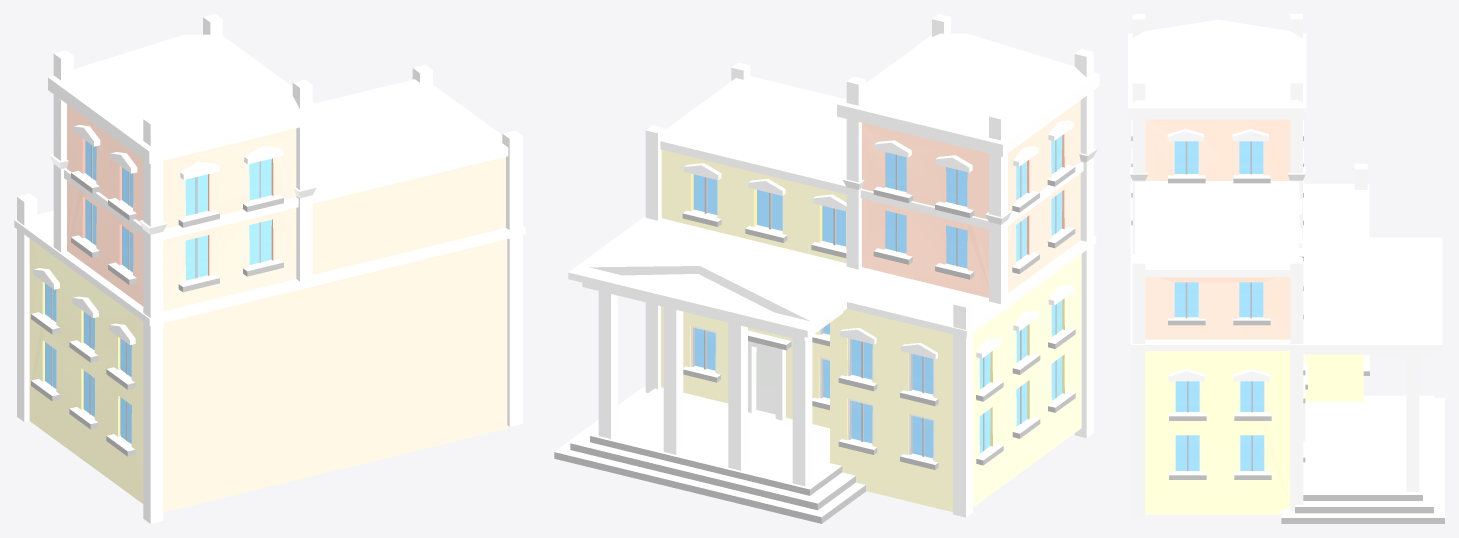
File: art.002.glb
3 renders of one model, left to right at view 1: azimuth 30°, elevation 25°; view 2: azimuth 150°, elevation 25°; view 3: azimuth 270°, elevation 25°, orthographic. The views are drawn at different scales.
Visible parts, largest first — view 1: art.002(Clone); view 2: art.002(Clone); view 3: art.002(Clone).
Boxes of the visible parts, left/top/right/bottom form: art.002(Clone): left=14, top=14, right=525, bottom=523; art.002(Clone): left=554, top=14, right=1099, bottom=523; art.002(Clone): left=1128, top=14, right=1444, bottom=523.
Bounding box in the file's own units: 13.59 × 14.4 × 10.84.
1 material, 1 textured.
